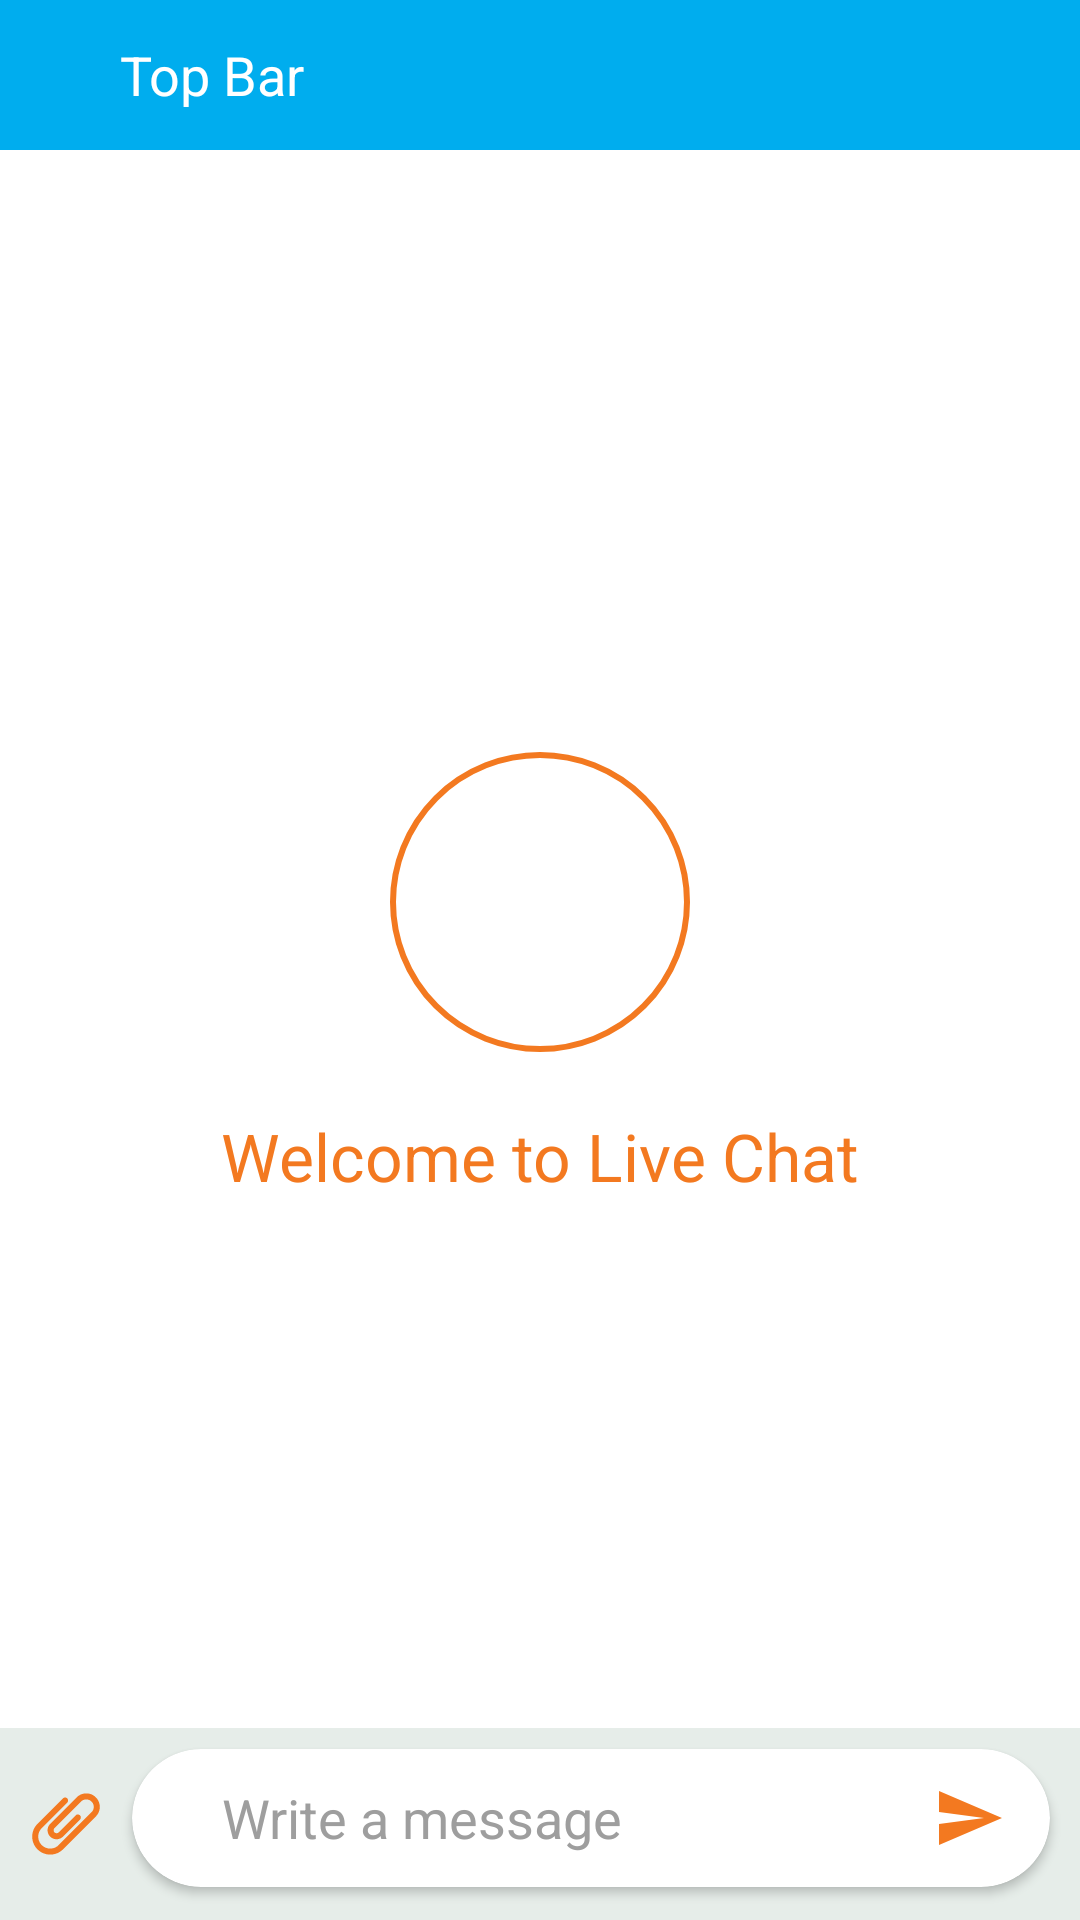

Named icons in this screenshot (1080w x 1920h) and their bounding boxes, (x1, y1, x2, y2):
attach: (32, 1793, 100, 1855)
send: (939, 1791, 1002, 1845)
